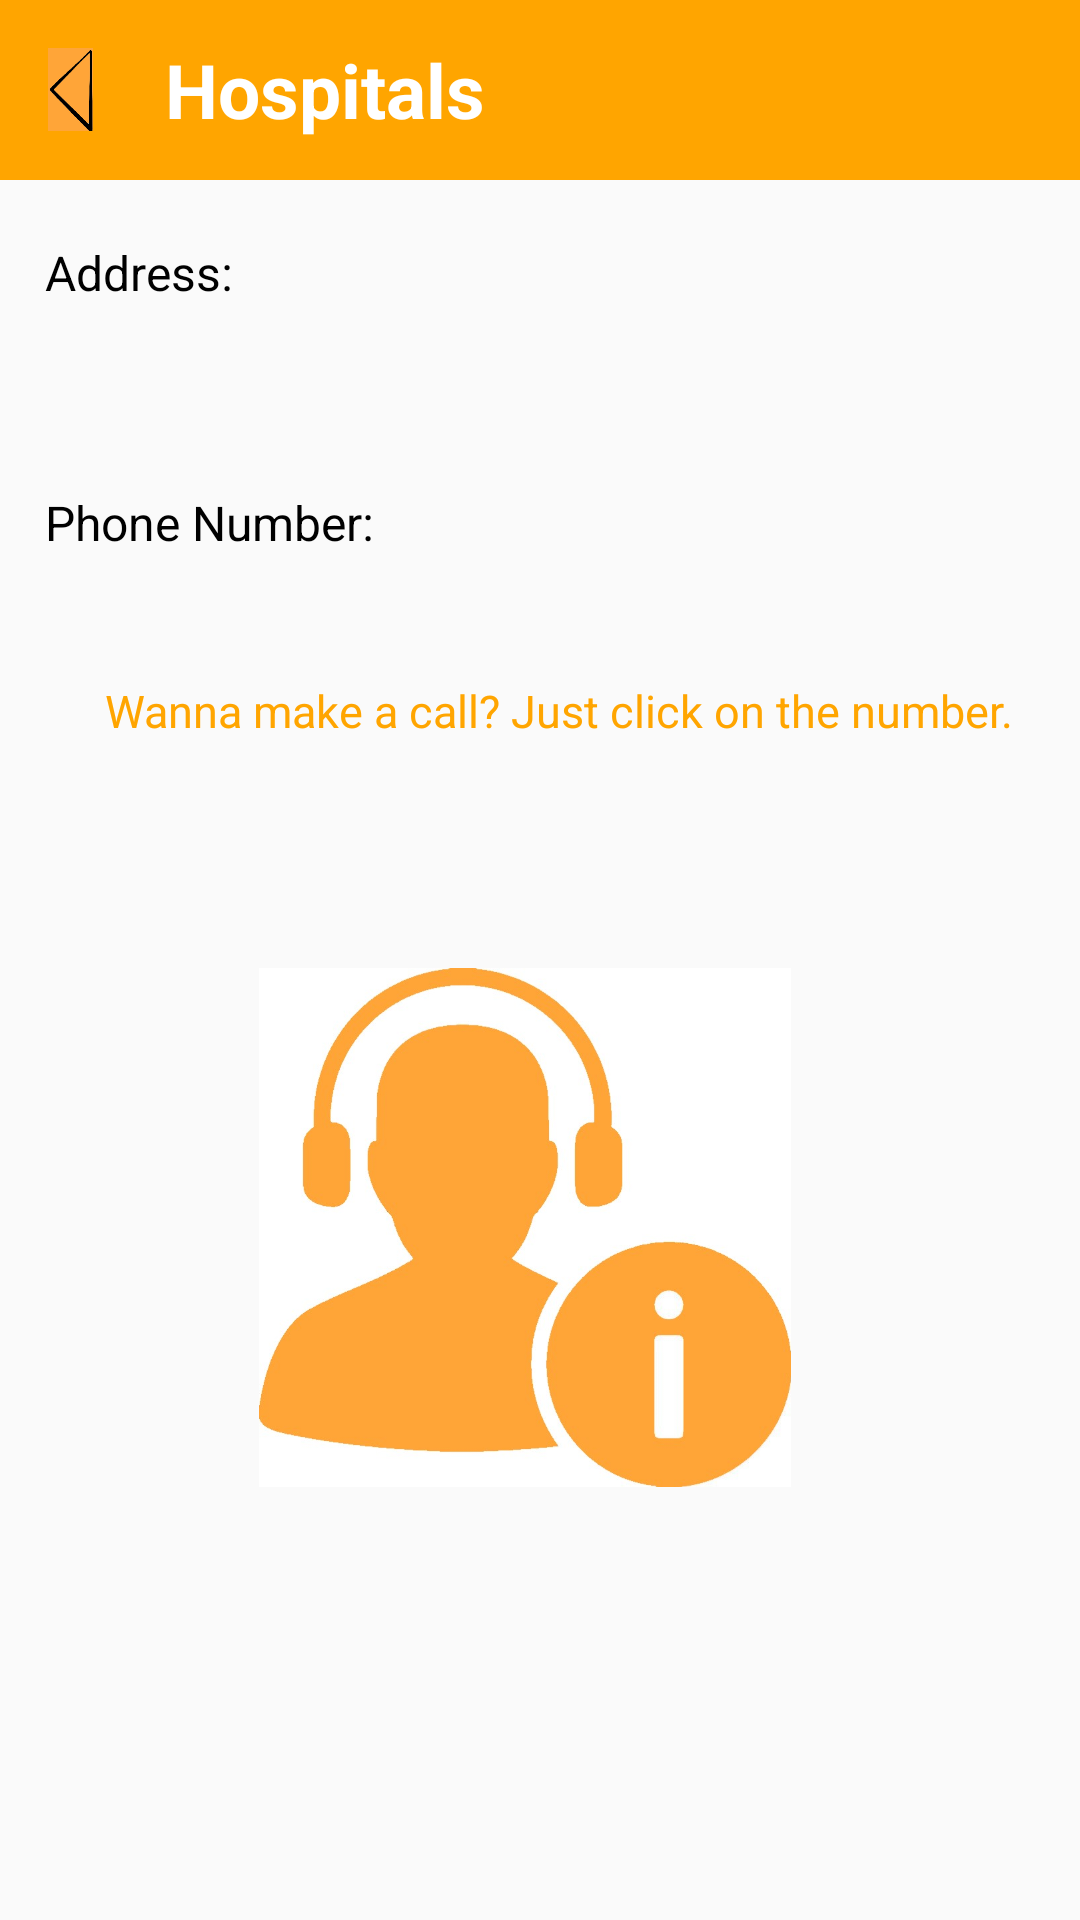

Icons on this 1080px x 1920px Android screen, each with the point to tap as (x,y):
backarrow: (70,89)
